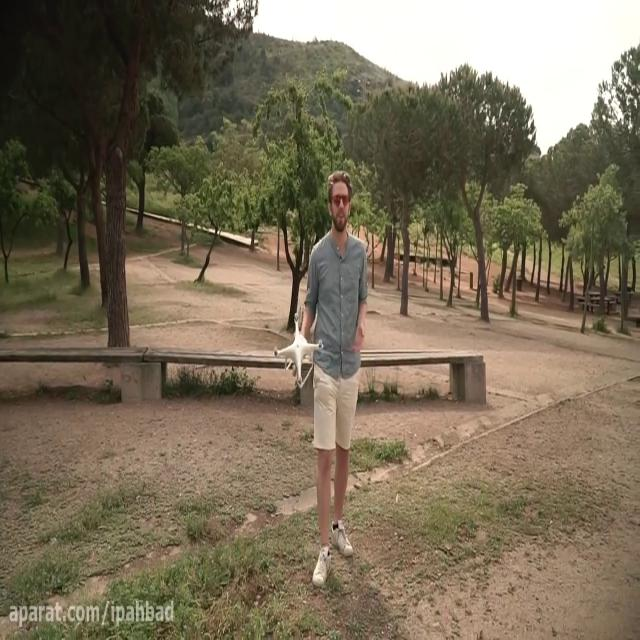drone: (274, 310, 324, 390)
